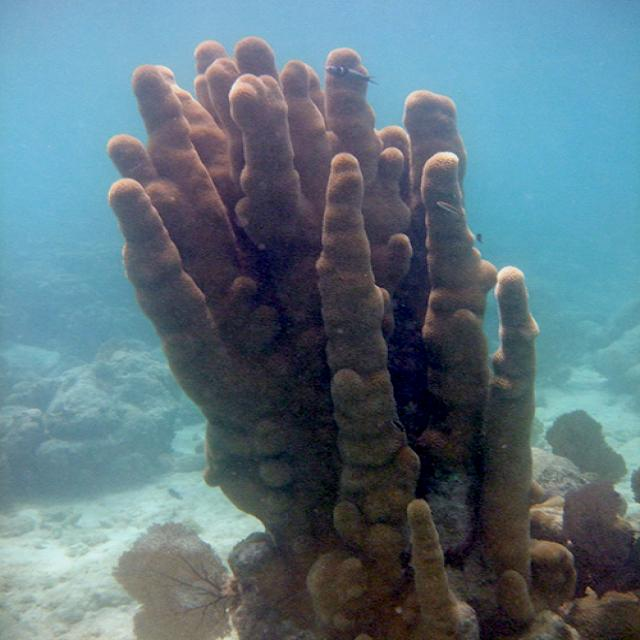Coral: (106, 35, 579, 640), (110, 515, 228, 640)
